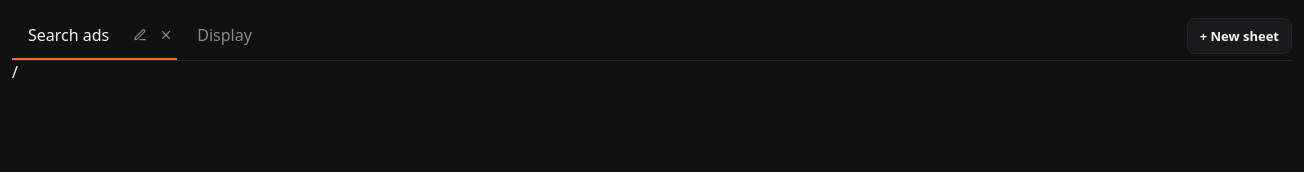
CampaignTabs › navigates to the campaign route on select
The image size is (1304, 172).
Click the tab "Display" at (225, 35), box [181, 12, 268, 58]
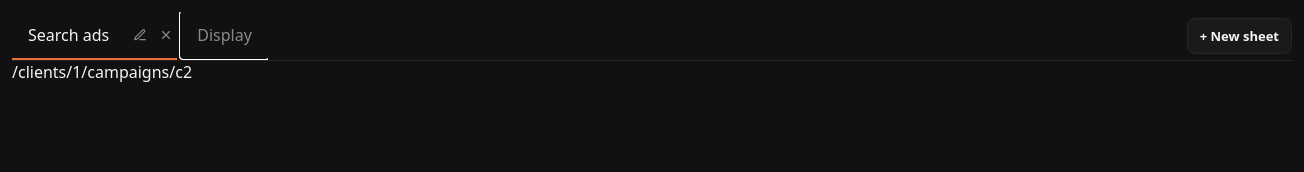
Check: the text with test id "location" reads "/clients/1/campaigns/c2", box [12, 61, 192, 83]
